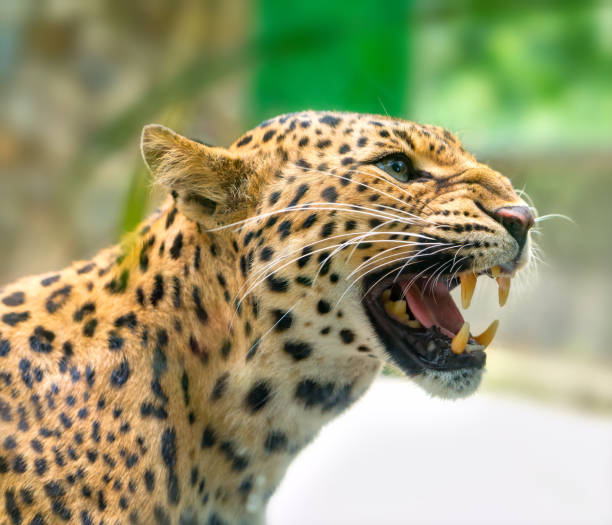cheetah: (141, 81, 564, 443)
